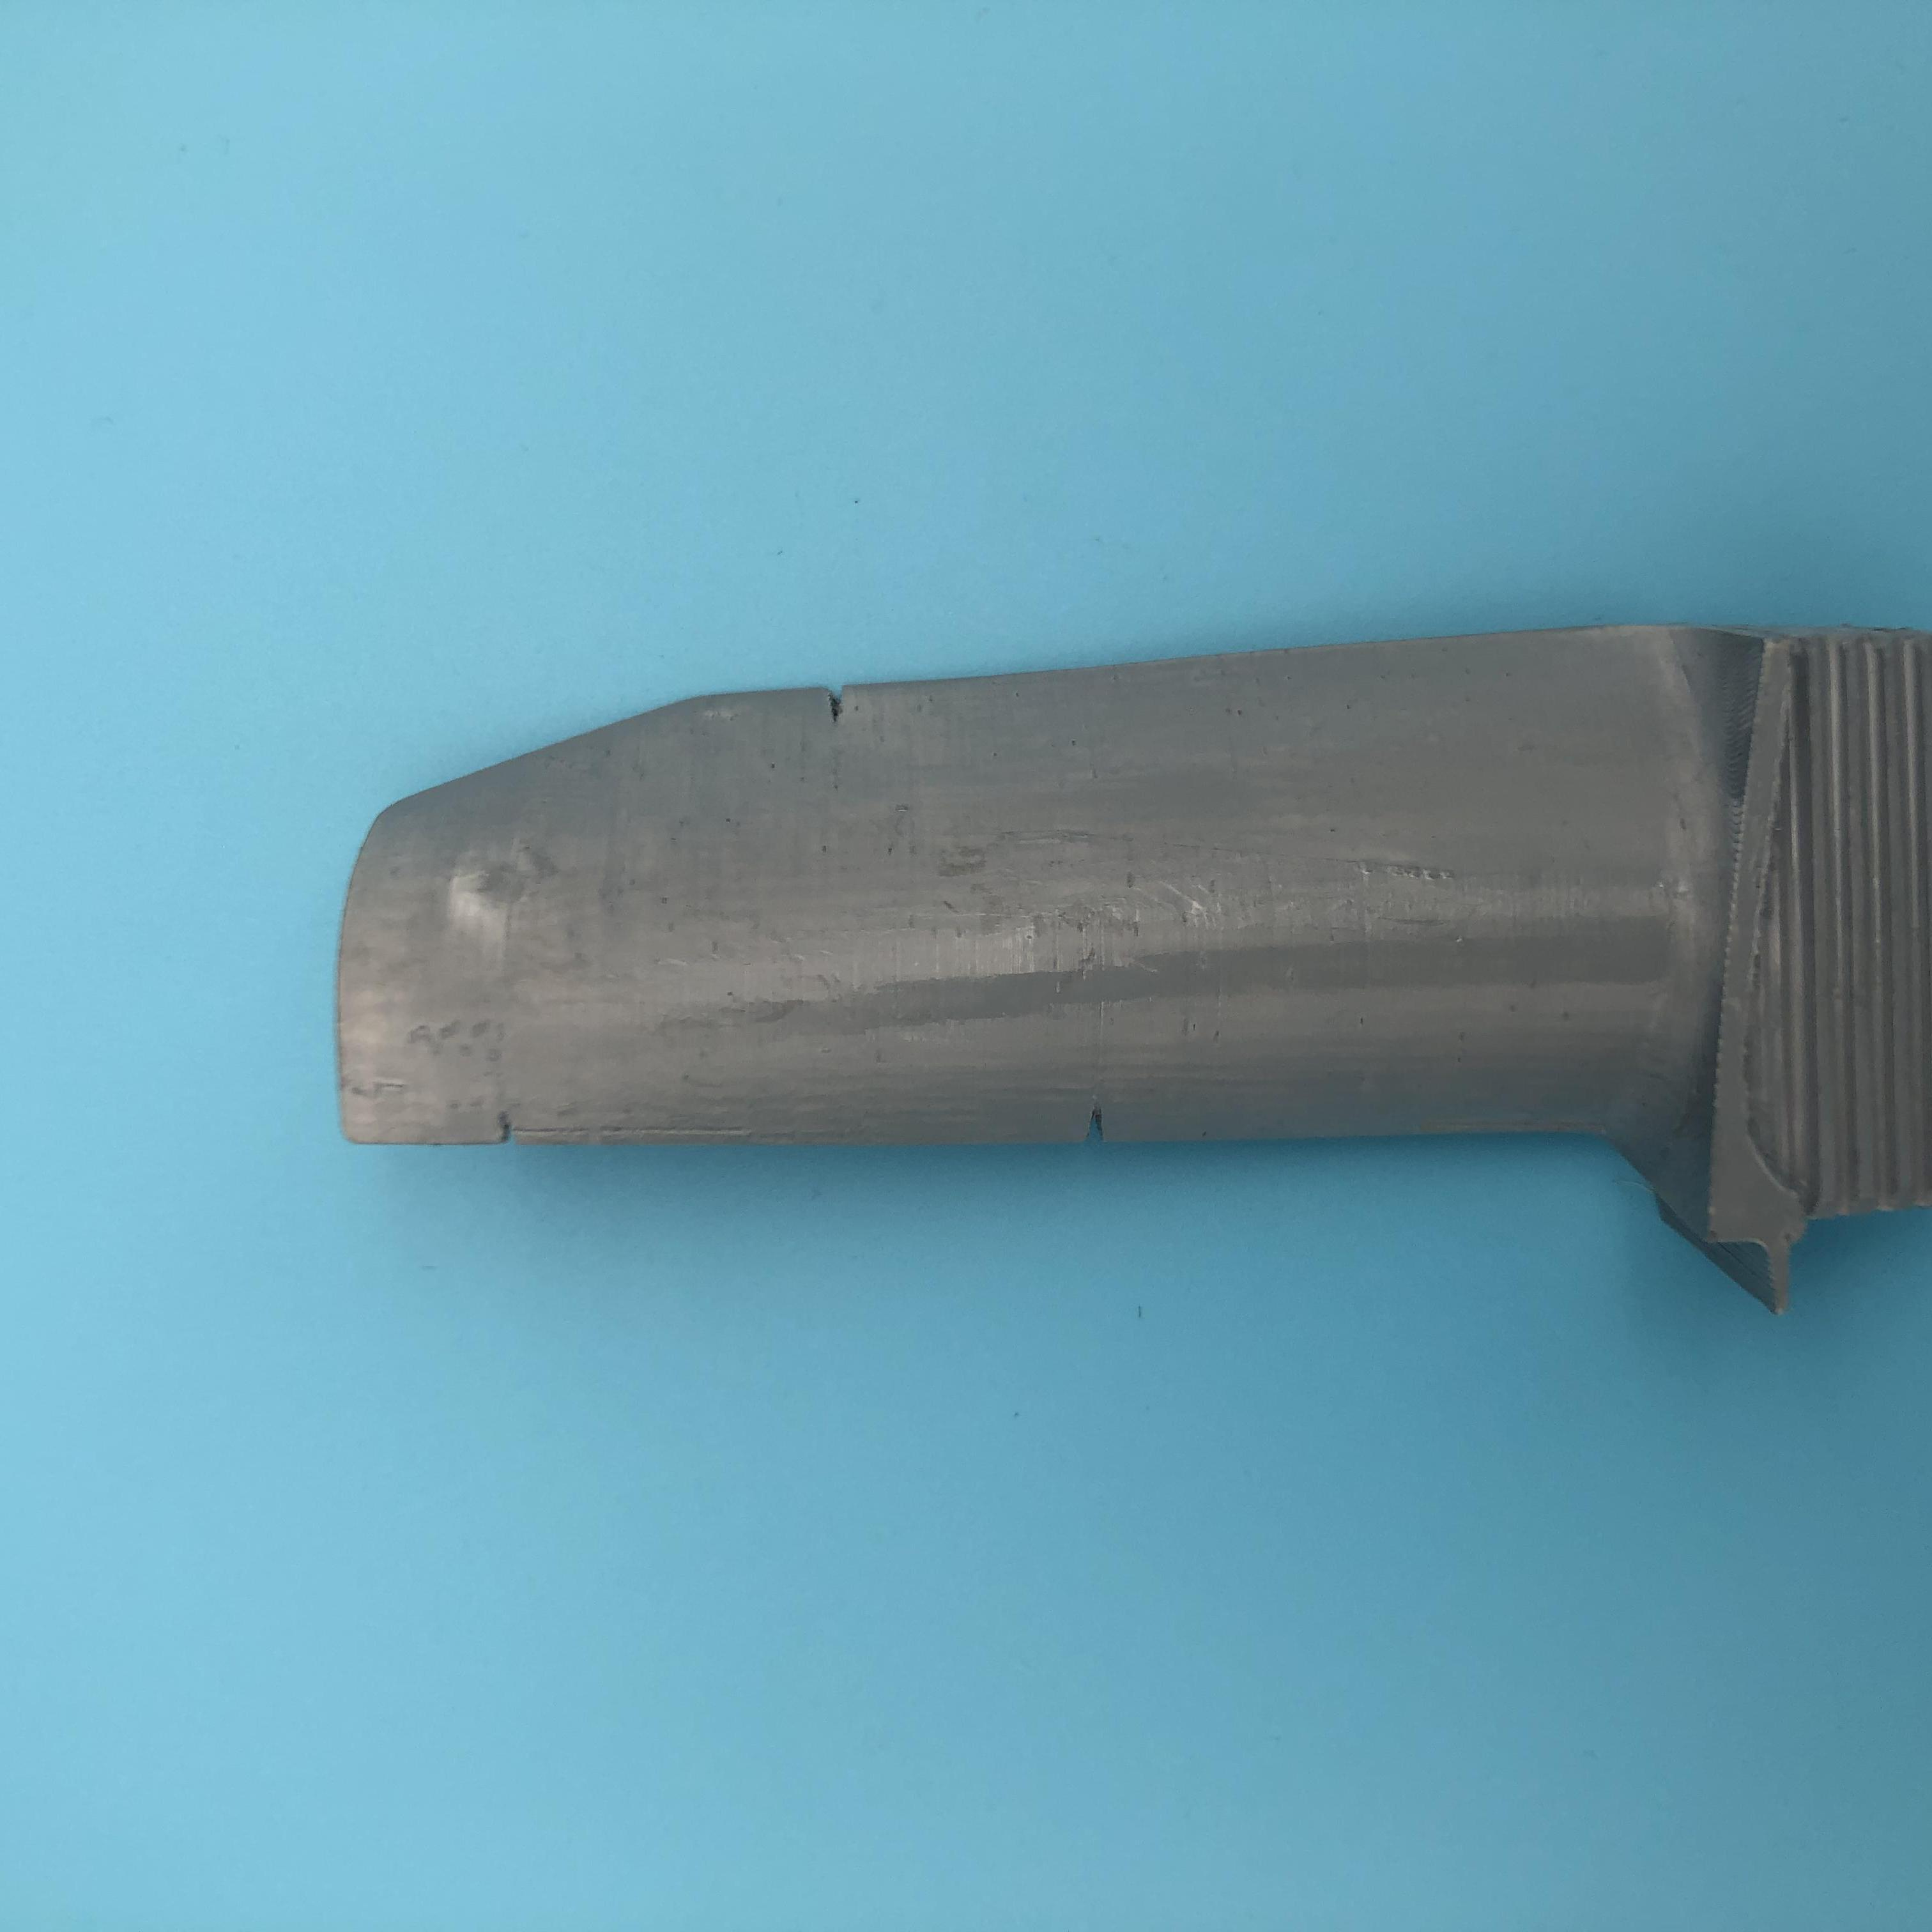groove: (1065, 1092, 1145, 1143), (814, 683, 872, 736), (485, 1109, 550, 1143)
